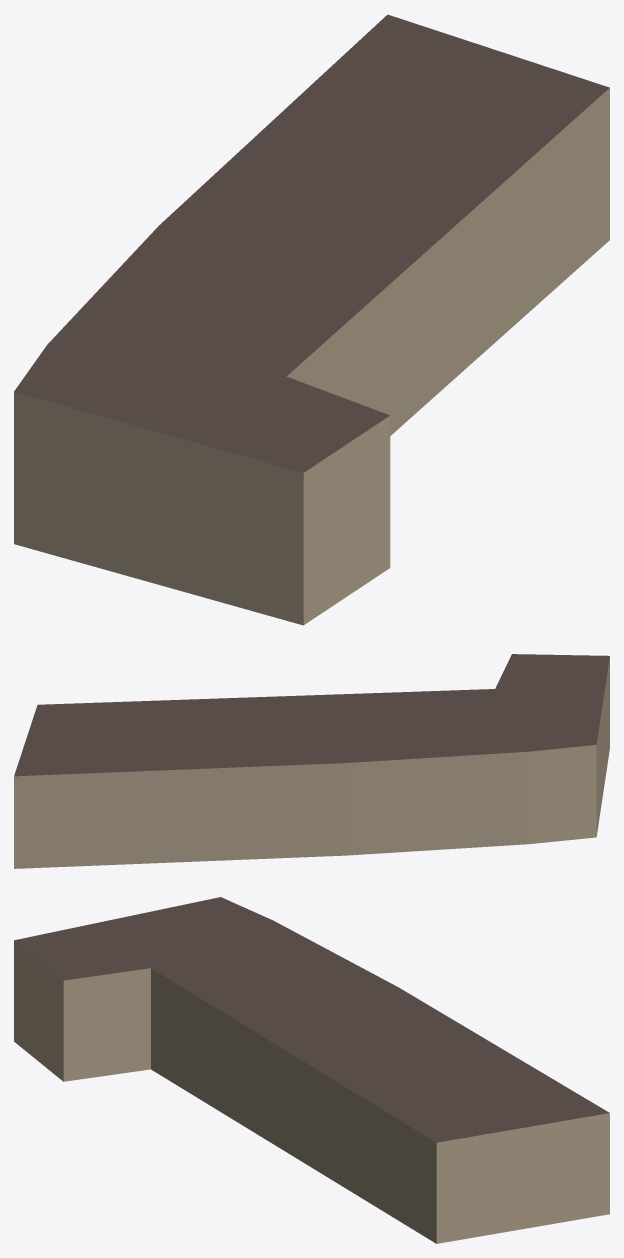
3 views of the same model, one above another, from view 1: azimuth 30°, elevation 25°; view 2: azimuth 150°, elevation 25°; view 3: azimuth 270°, elevation 25° (orthographic). The views are drawn at different scales.
Parts seen in each view (by area): view 1: HP-w369342605; view 2: HP-w369342605; view 3: HP-w369342605.
Part boxes in pixels (x1,y1,x2,y2): HP-w369342605: (14, 14, 609, 625); HP-w369342605: (14, 654, 609, 868); HP-w369342605: (14, 897, 609, 1243).
Bounding box in the file's own units: 46.85 × 9 × 48.02.
